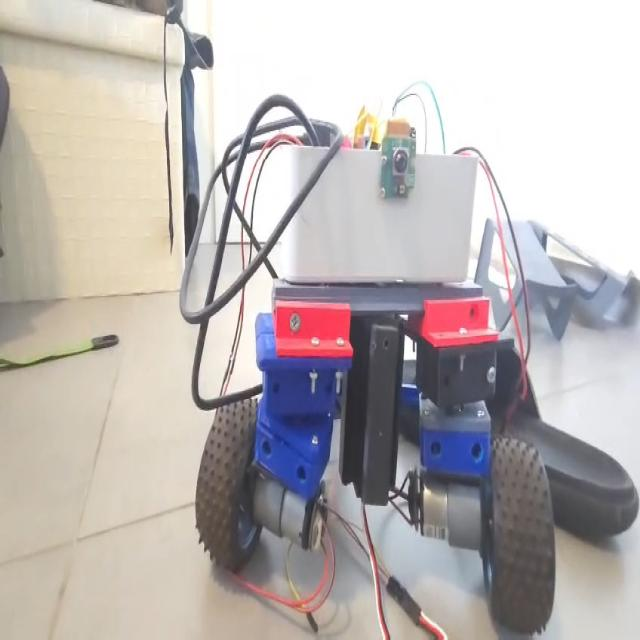Robot: (190, 74, 561, 640)
